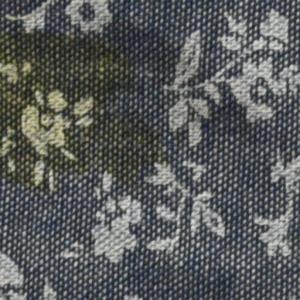Oil Stain: (1, 27, 174, 205)
